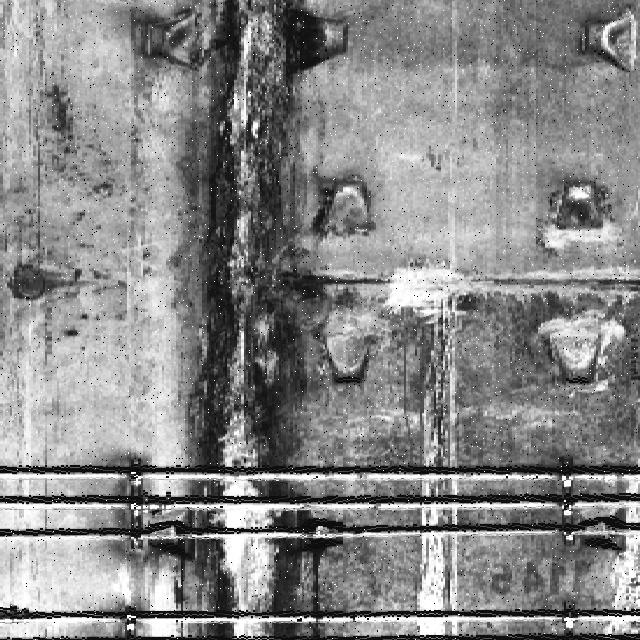leakage: (155, 0, 337, 638)
